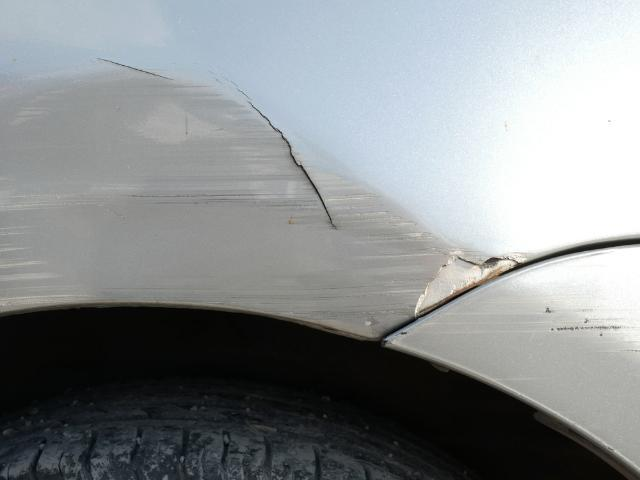crack: (229, 77, 338, 234)
scratch: (0, 64, 529, 340), (391, 273, 640, 381)
